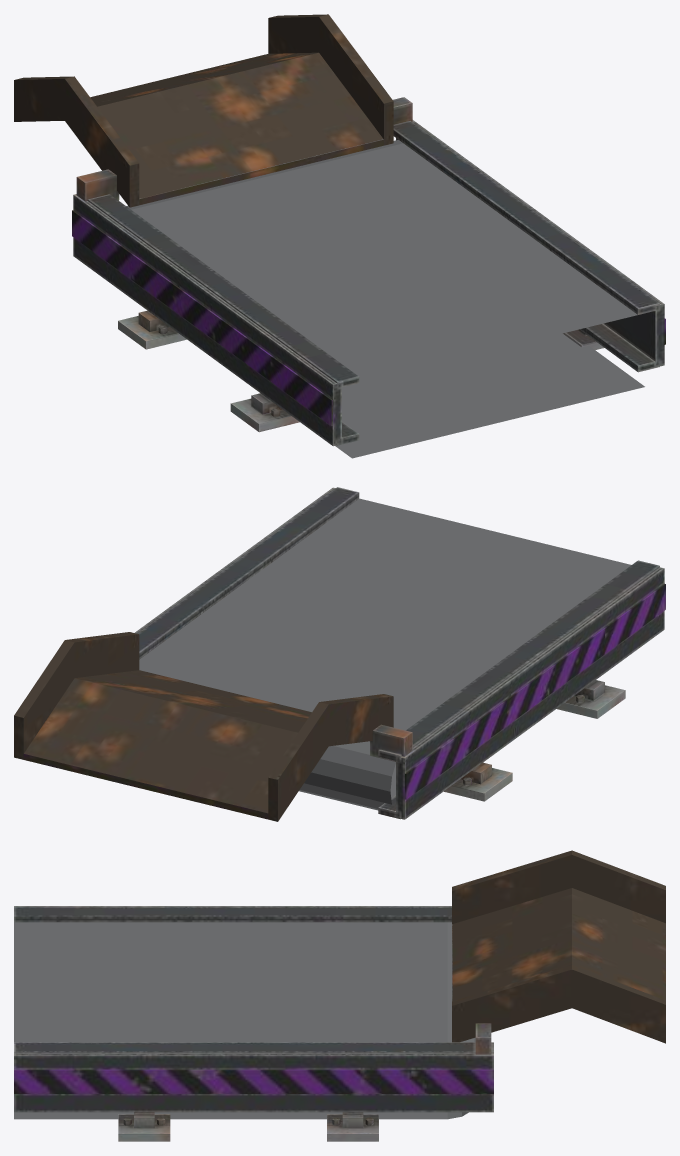
Rendered from esteira_juncao_quantica.glb.
3 views of the same model, one above another, from view 1: azimuth 30°, elevation 25°; view 2: azimuth 150°, elevation 25°; view 3: azimuth 270°, elevation 25° (orthographic). The views are drawn at different scales.
Parts seen in each view (by area): view 1: esteira_juncao_quantica_corpo; view 2: esteira_juncao_quantica_corpo; view 3: esteira_juncao_quantica_corpo.
Boxes of the visible parts, x1,y1,x2,y2 form: esteira_juncao_quantica_corpo: [14, 14, 665, 458]; esteira_juncao_quantica_corpo: [14, 487, 665, 821]; esteira_juncao_quantica_corpo: [14, 850, 665, 1141].
Size of the model in its own units: 0.75 by 0.315 by 1.25.
Materials: 2 (1 with a texture image).
